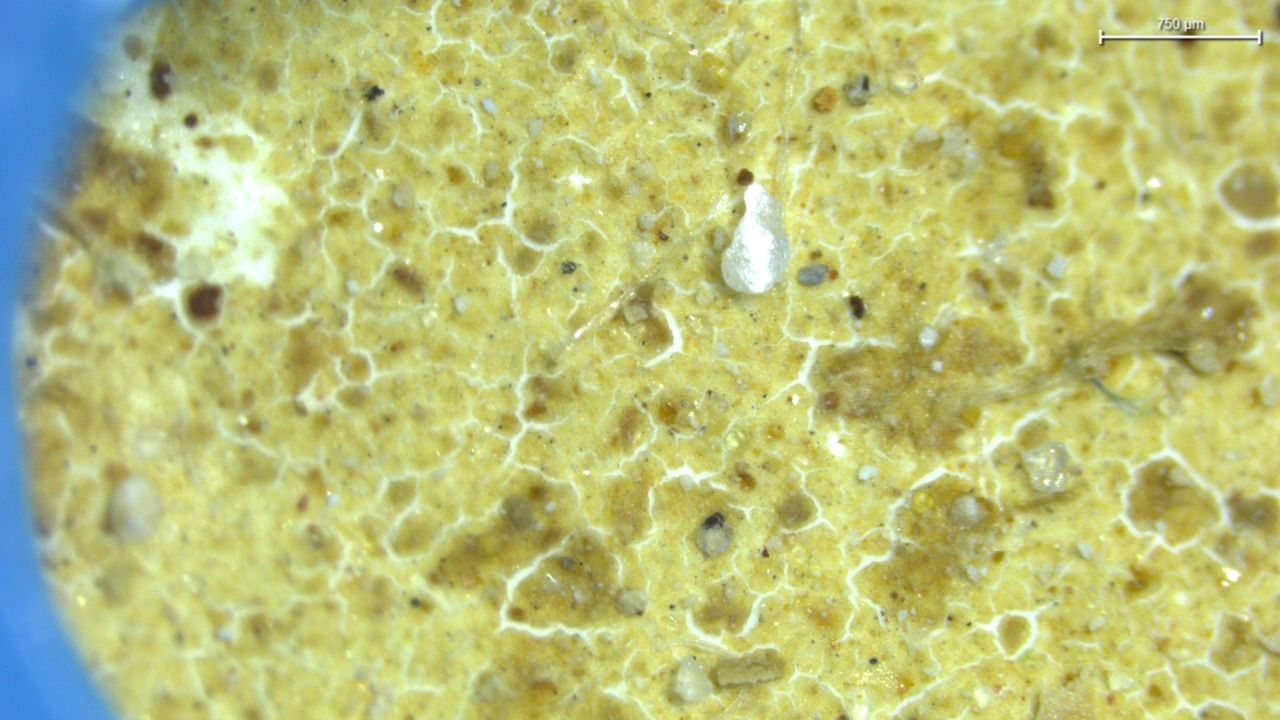microplastic_fragment: (721, 183, 789, 294), (673, 656, 712, 703)
